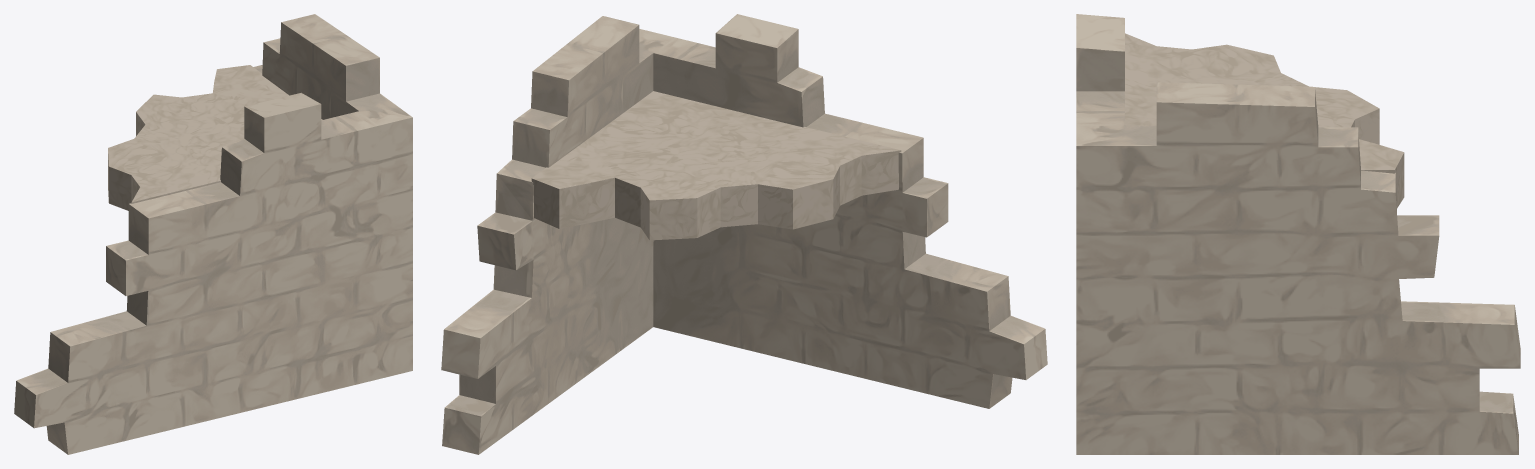
The model's file is sufit_1.obj.
3 views of the same model, side by side, from view 1: azimuth 30°, elevation 25°; view 2: azimuth 150°, elevation 25°; view 3: azimuth 270°, elevation 25° (orthographic). The views are drawn at different scales.
Visible parts, largest first — view 1: lowpoly1.002; view 2: lowpoly1.002; view 3: lowpoly1.002.
Part boxes in pixels (box(x1,y1,x2,y2)): lowpoly1.002: box(14, 14, 412, 454); lowpoly1.002: box(441, 14, 1047, 454); lowpoly1.002: box(1076, 14, 1520, 454).
Size of the model in its own units: 46.55 by 33.96 by 38.77.
Materials: 2 (2 with a texture image).
